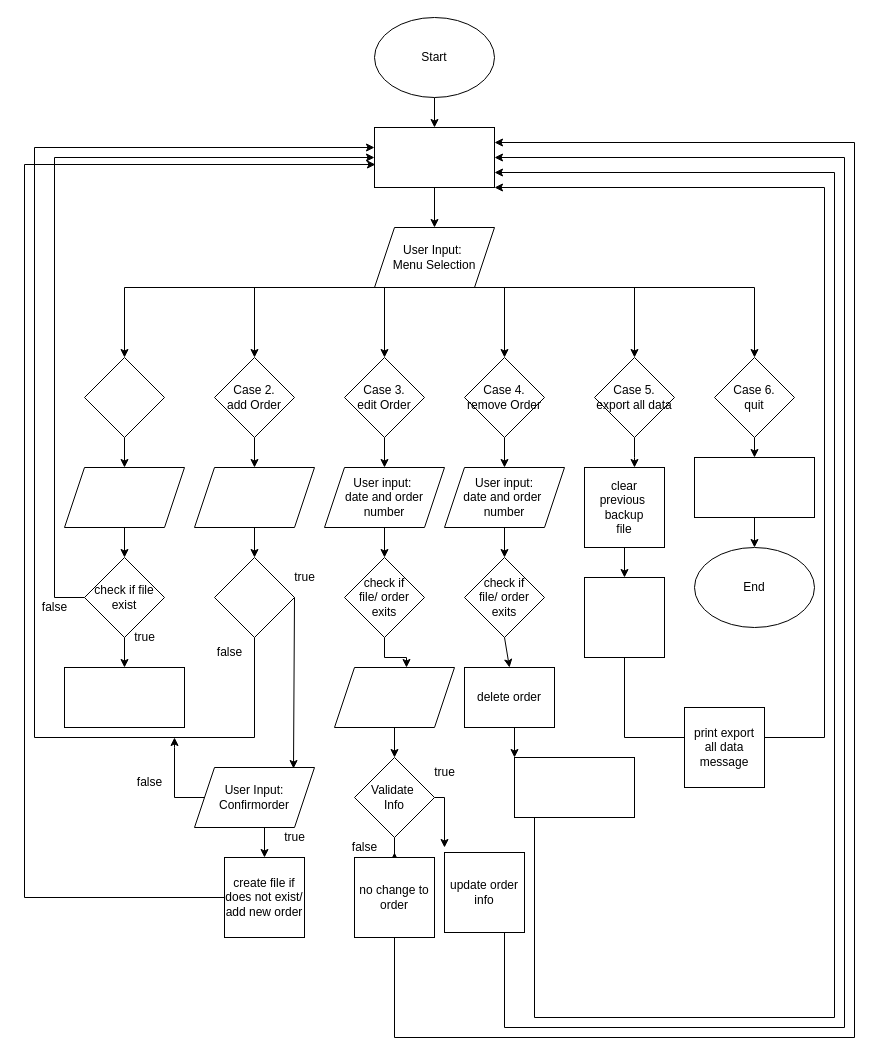
Some shapes in this 880 by 1063 pixel diagram are drawn without their labels. Here are the shapes that lost their labels. From the top down, the centre of each, then its label:
At (x=434, y=157): "Display Menu Options".
At (x=124, y=397): "Case 1: display Orders".
At (x=124, y=497): "User input: date".
At (x=254, y=497): "User input: order information".
At (x=754, y=487): "print exit message".
At (x=254, y=597): "information validation".
At (x=624, y=617): "append order date to each order from files".
At (x=124, y=697): "print list of orders".
At (x=394, y=697): "User Input: new order info".
At (x=574, y=787): "print remove success message".
